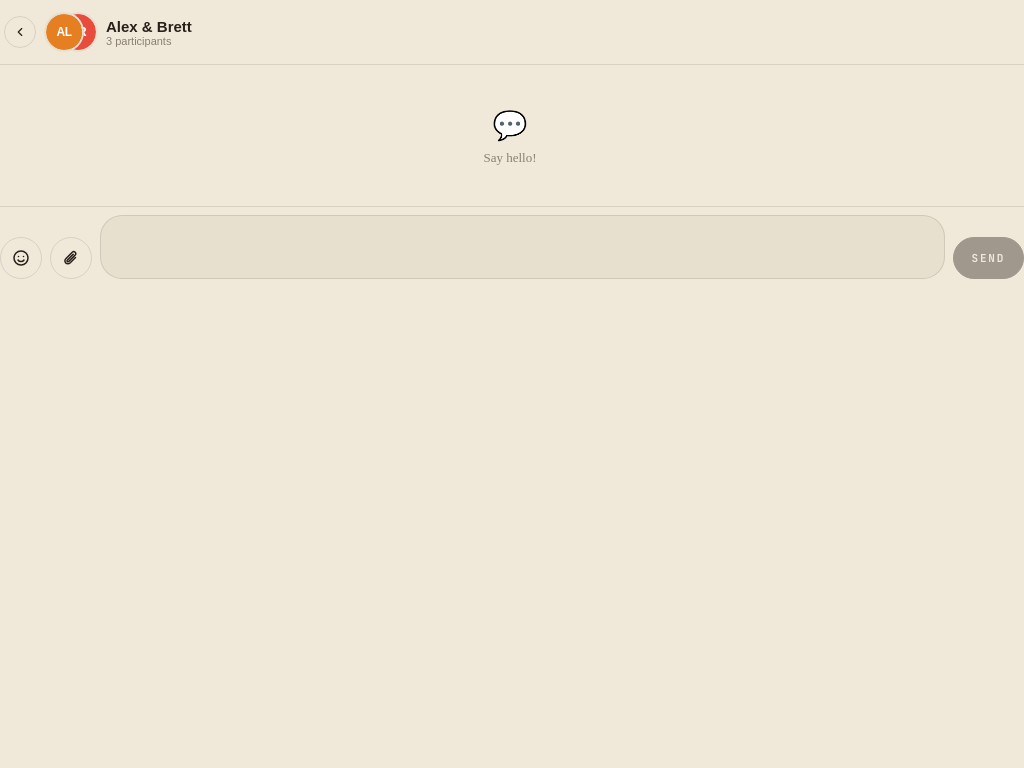
Test: Messages — group conversations › group thread header opens a participant drawer with each member
Expected: the text "Alex & Brett" is shown, [106,18,192,34]
Click the button with aria-label "group details": click(78, 32) [46,14,1020,50]
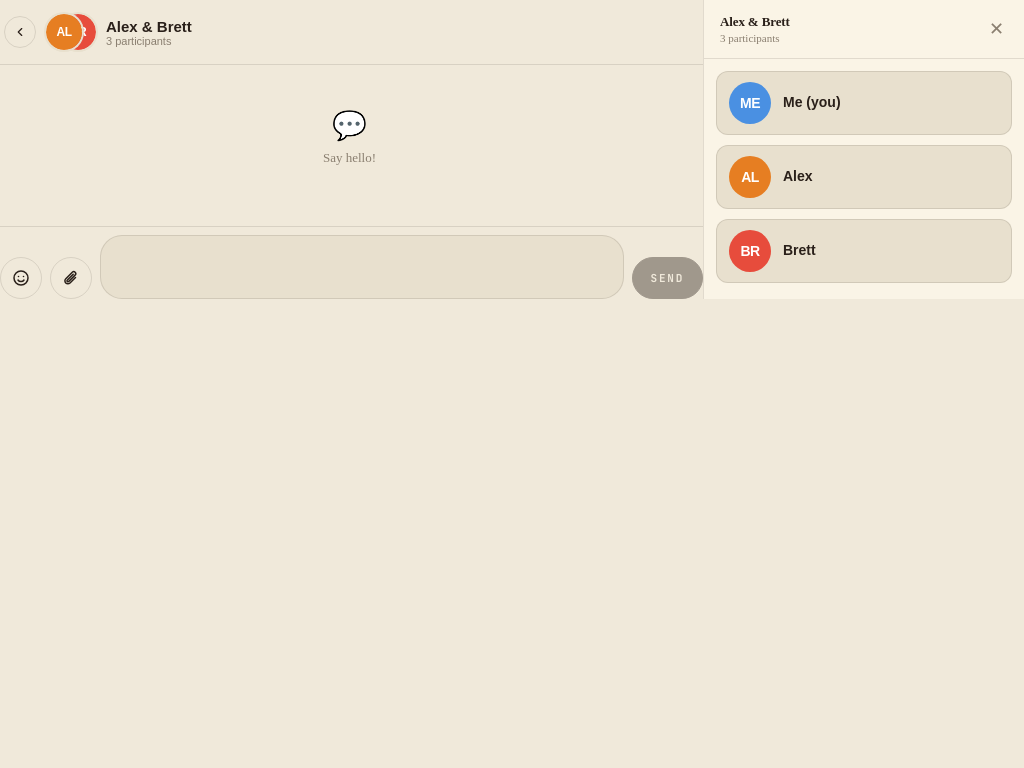
Expected: the dialog named "group details" is shown, [703,0,1023,299]
Expected: the text "Me (you)" is shown, [783,94,841,110]
Expected: the text "Alex" is shown, [783,168,813,184]
